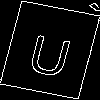U: (25, 25, 77, 79)
